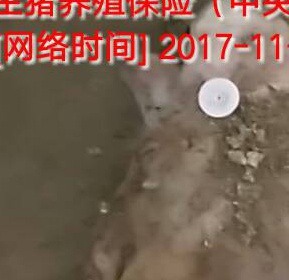text: (188, 68, 251, 129)
